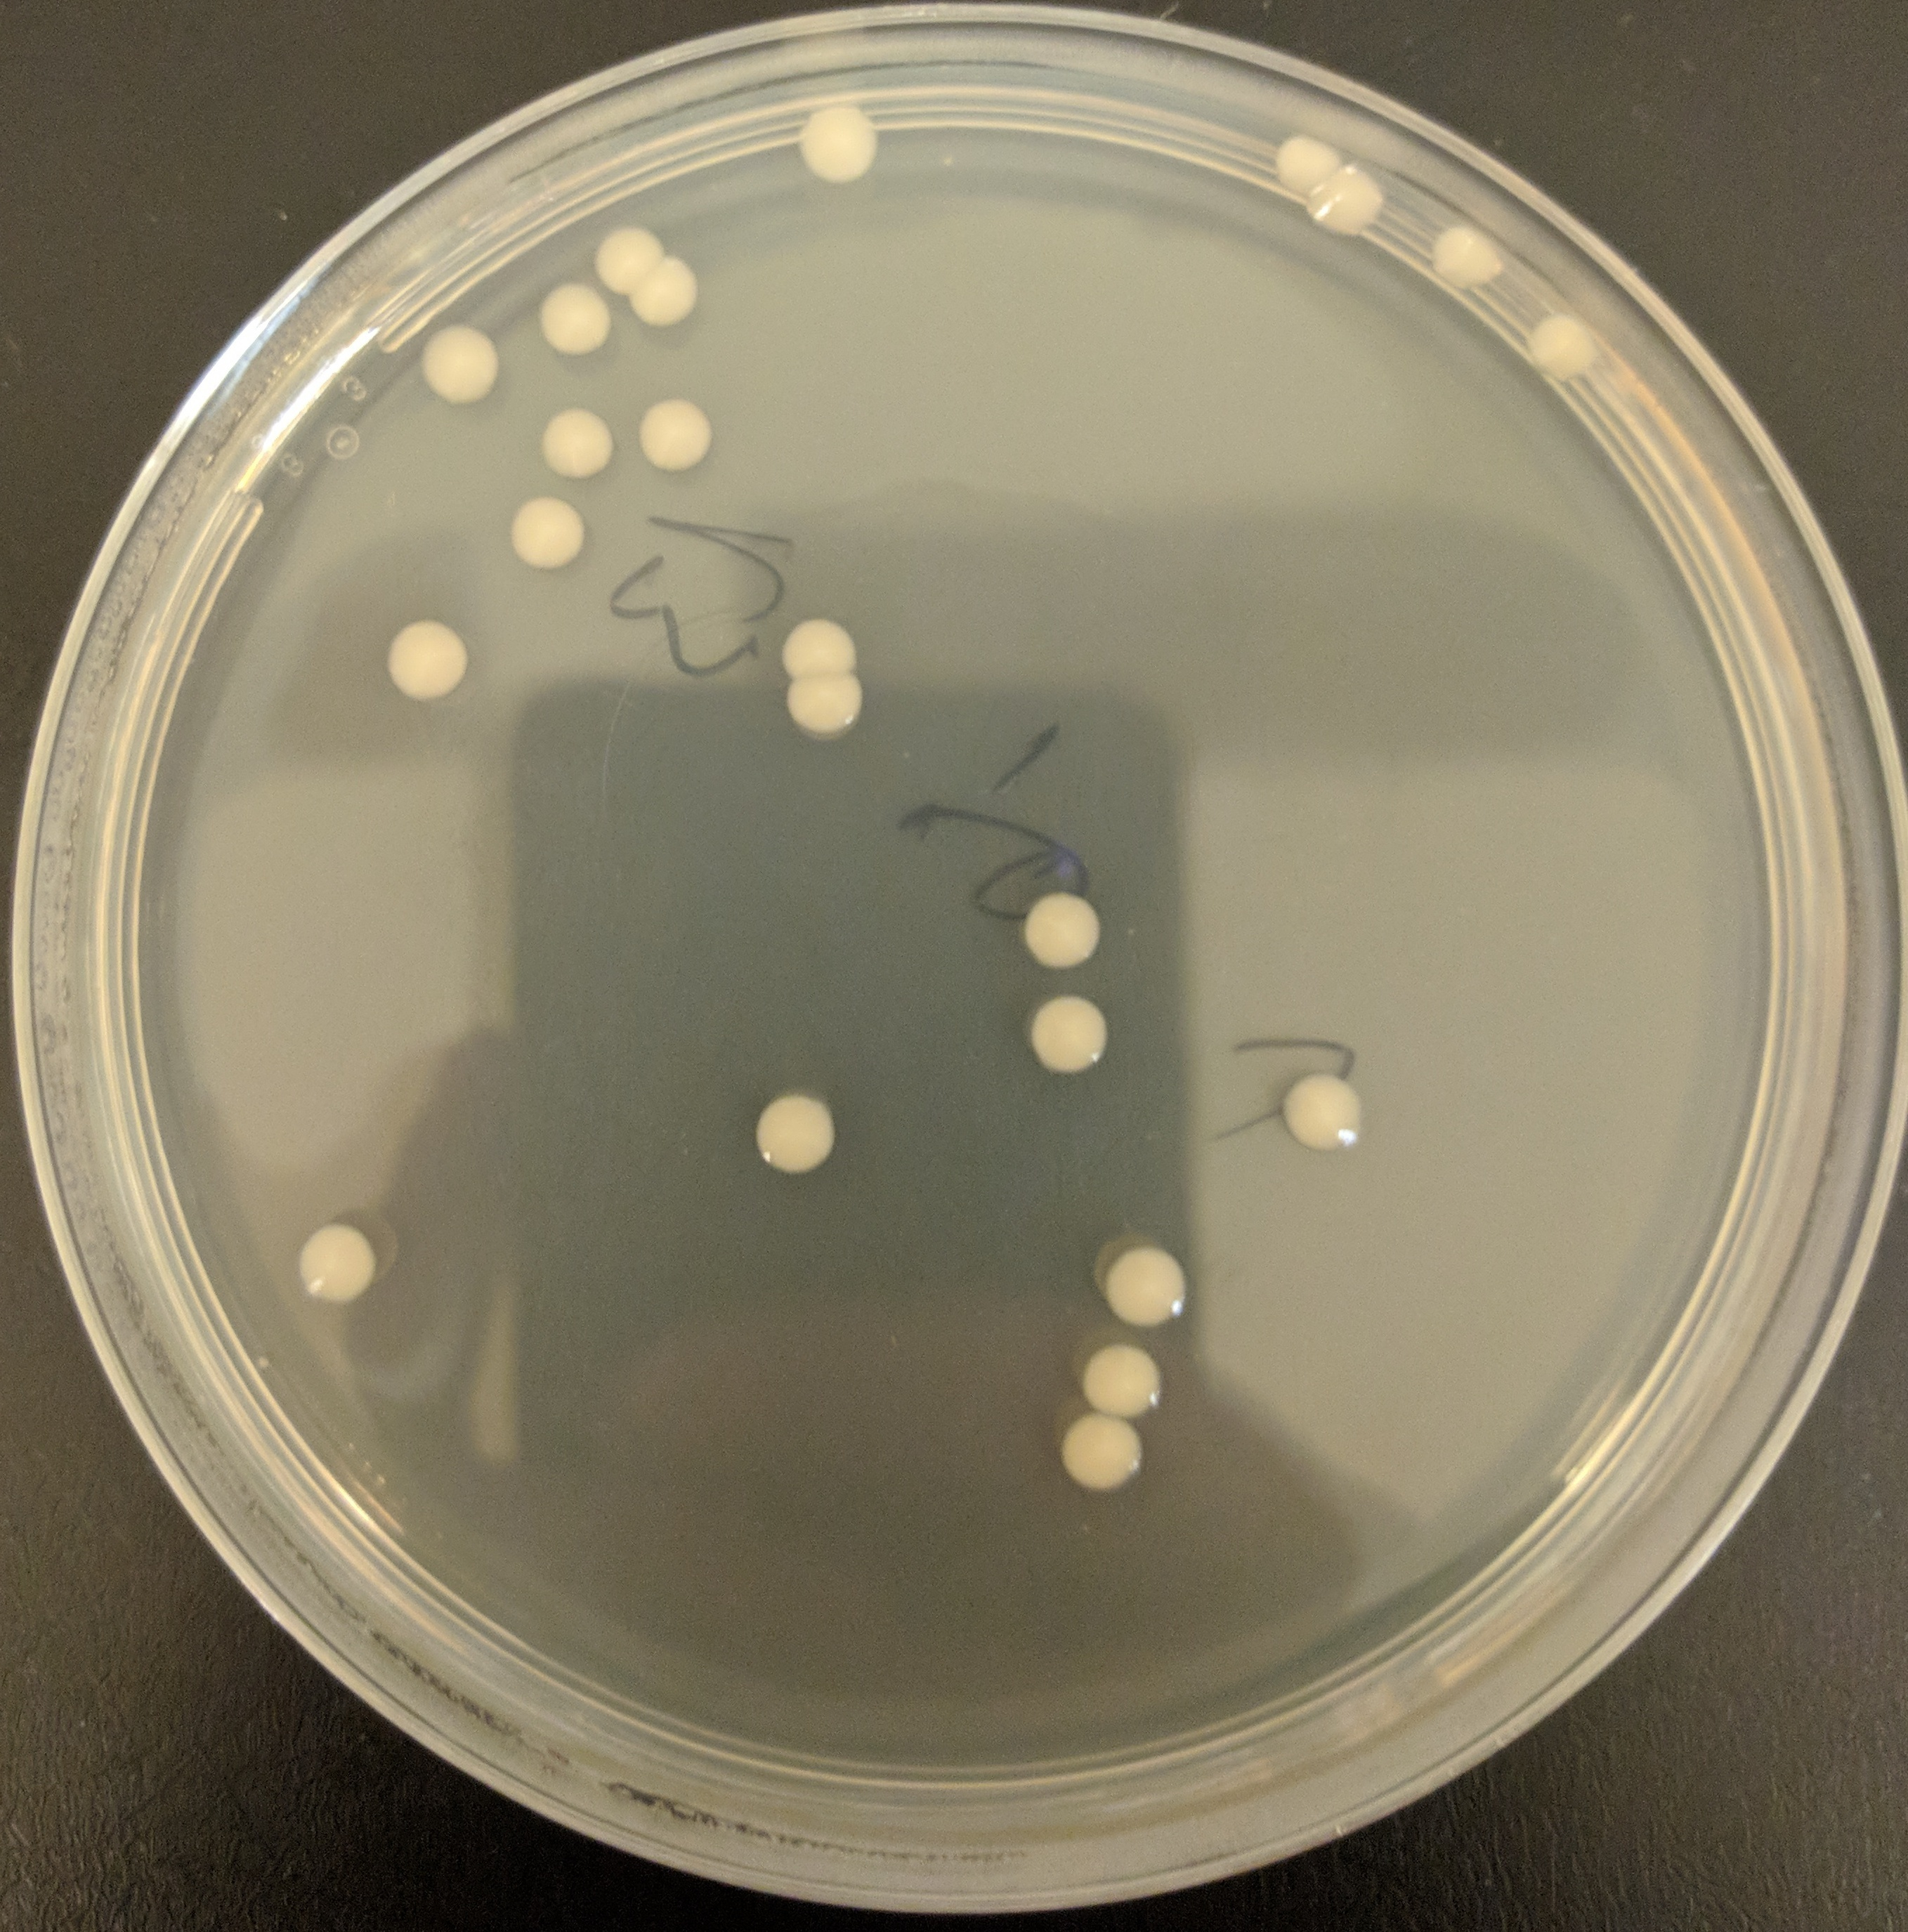sp11: (269, 1191, 388, 1322), (1012, 980, 1130, 1090), (739, 1071, 842, 1184), (1274, 1069, 1377, 1176), (1096, 1225, 1200, 1322), (405, 316, 510, 412), (1050, 1413, 1151, 1509), (1059, 1340, 1172, 1424), (491, 489, 592, 578), (1421, 210, 1506, 314), (793, 100, 886, 196), (626, 393, 715, 486), (379, 618, 477, 702), (524, 266, 612, 358), (1527, 302, 1607, 391), (769, 671, 868, 742), (1012, 887, 1110, 959), (535, 398, 617, 482), (772, 604, 865, 678), (629, 255, 713, 327), (1316, 169, 1391, 245), (592, 217, 653, 297), (1263, 128, 1330, 176)
